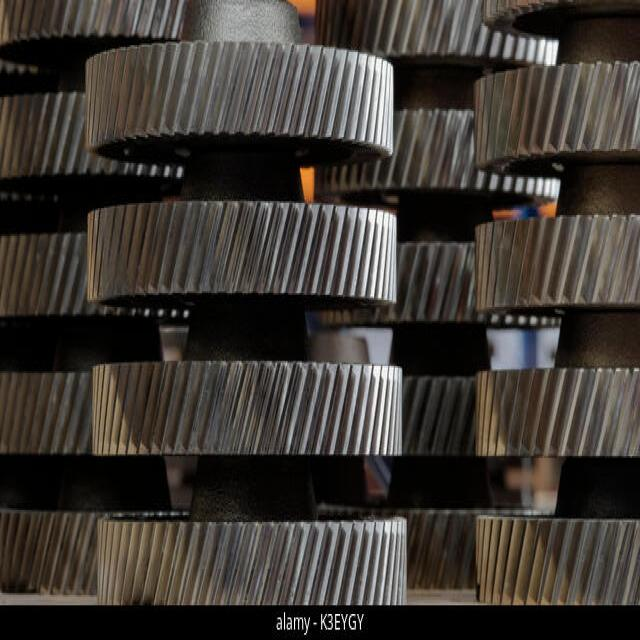Gear: (84, 49, 397, 169), (85, 198, 401, 314), (89, 359, 408, 462), (93, 511, 411, 604), (313, 107, 557, 200), (320, 238, 560, 330), (470, 58, 640, 178), (311, 0, 560, 79), (0, 90, 188, 191), (0, 232, 191, 328), (472, 211, 640, 320), (0, 503, 190, 595), (472, 366, 640, 464), (472, 511, 640, 604), (0, 0, 186, 68), (374, 504, 487, 593), (0, 366, 96, 464), (404, 372, 475, 464), (478, 0, 639, 38)
